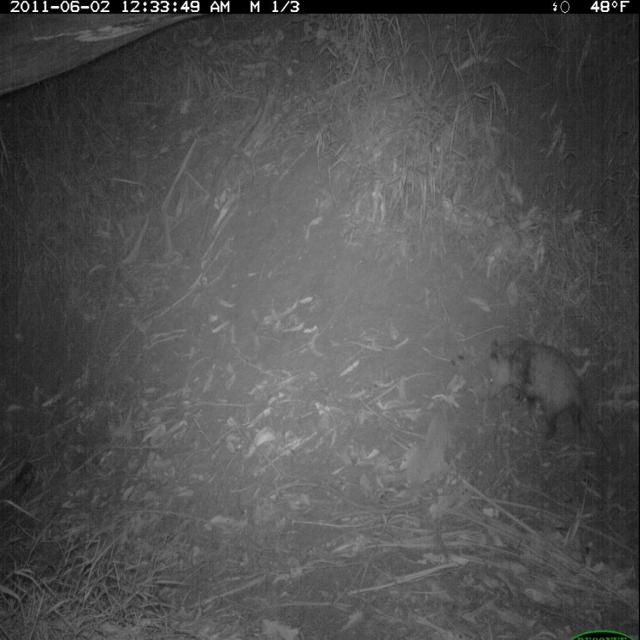opossum: (484, 335, 616, 458)
